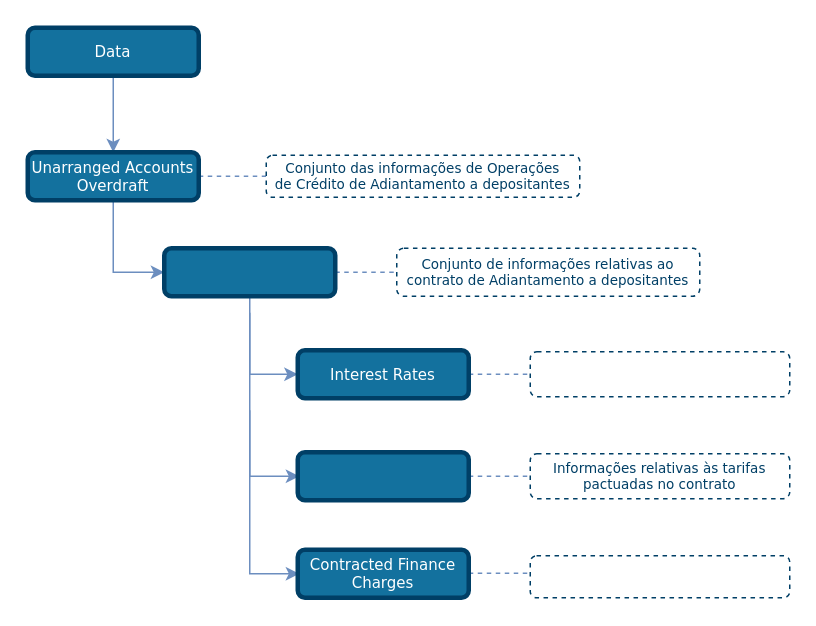
This 816x626 diagram has some shape labels left out. Here are the shapes that lost their labels. From the top down, the box of each, then its label:
(161, 245, 337, 298): Contract
(529, 350, 790, 397): Informações relativas à composição das taxas de juros remuneratórias
(295, 449, 470, 502): Contracted Fees
(529, 554, 790, 598): Informações relativas aos encargos pactuados no contrato
